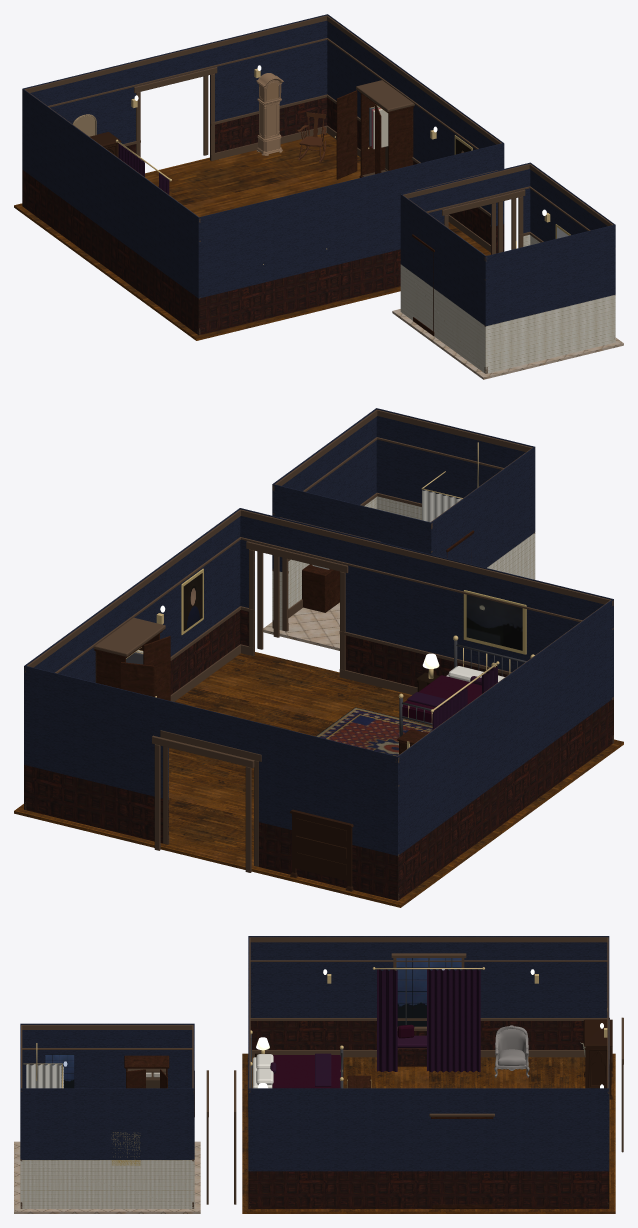
The model's file is guest_suite.glb.
The picture shows the model from 3 angles, top to bottom: view 1: azimuth 30°, elevation 25°; view 2: azimuth 150°, elevation 25°; view 3: azimuth 270°, elevation 25°; orthographic projection. The views are drawn at different scales.
Visible parts, largest first — view 1: GuestSuite; view 2: GuestSuite; view 3: GuestSuite.
Boxes of the visible parts, x1,y1,x2,y2 form: GuestSuite: [14, 14, 623, 379]; GuestSuite: [14, 408, 623, 907]; GuestSuite: [14, 936, 623, 1213].
Size of the model in its own units: 9 by 3.26 by 14.7.
Materials: 37 (21 with a texture image).
